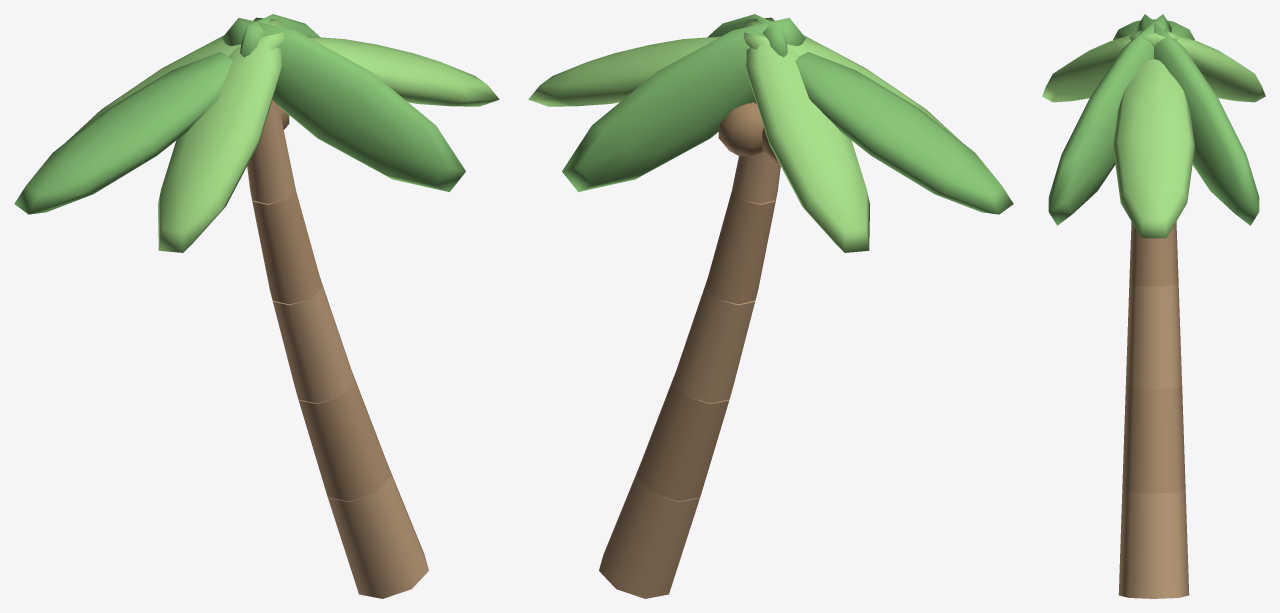
File: Desert_Palm1.fbx
3 renders of one model, left to right at view 1: azimuth 30°, elevation 25°; view 2: azimuth 150°, elevation 25°; view 3: azimuth 270°, elevation 25°, orthographic. The views are drawn at different scales.
Parts seen in each view (by area): view 1: Desert_Palm1; view 2: Desert_Palm1; view 3: Desert_Palm1.
Part boxes in pixels (left/top/right/bottom): Desert_Palm1: left=14, top=14, right=499, bottom=598; Desert_Palm1: left=528, top=14, right=1013, bottom=598; Desert_Palm1: left=1042, top=14, right=1265, bottom=598.
Bounding box in the file's own units: 4.48 × 5.46 × 2.1.
